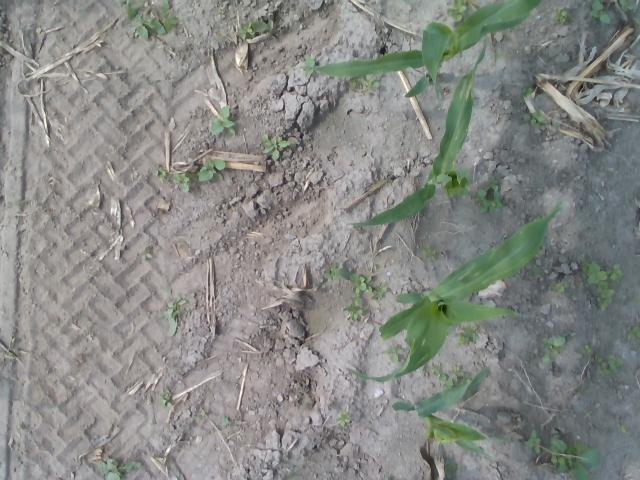Maize: (340, 199, 562, 387), (348, 42, 488, 230), (305, 0, 543, 99), (391, 366, 502, 480)
Weeds: (116, 0, 180, 41), (580, 253, 623, 312), (546, 437, 600, 480), (342, 272, 372, 322), (157, 290, 184, 338), (475, 174, 507, 214), (98, 458, 142, 480), (208, 104, 236, 136), (260, 133, 290, 162), (539, 336, 567, 364), (440, 364, 472, 388), (196, 158, 225, 182), (453, 322, 481, 346), (237, 18, 270, 38), (595, 354, 624, 375), (443, 0, 469, 23), (586, 0, 612, 23), (172, 170, 198, 193), (522, 108, 546, 130), (522, 428, 542, 453), (323, 262, 347, 281), (348, 75, 380, 89), (298, 56, 318, 78), (382, 346, 405, 364), (555, 5, 575, 25), (148, 163, 168, 182), (428, 361, 446, 382), (442, 459, 459, 479), (421, 241, 437, 261), (371, 281, 386, 301), (334, 410, 352, 426), (156, 390, 171, 408), (518, 86, 536, 100), (618, 0, 640, 11), (550, 280, 570, 292), (626, 325, 640, 342), (532, 264, 546, 279), (578, 344, 594, 357), (138, 247, 152, 260), (633, 15, 640, 35), (631, 294, 640, 306), (194, 412, 204, 422), (618, 424, 628, 434), (220, 417, 230, 426), (584, 410, 593, 418), (6, 353, 16, 360), (383, 477, 388, 480)
